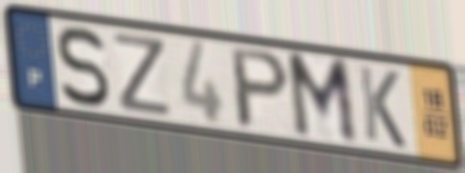4: (179, 36, 231, 129)
K: (356, 62, 409, 151)
M: (283, 50, 361, 149)
P: (229, 44, 293, 132)
S: (54, 24, 112, 111)
Z: (111, 29, 174, 119)
